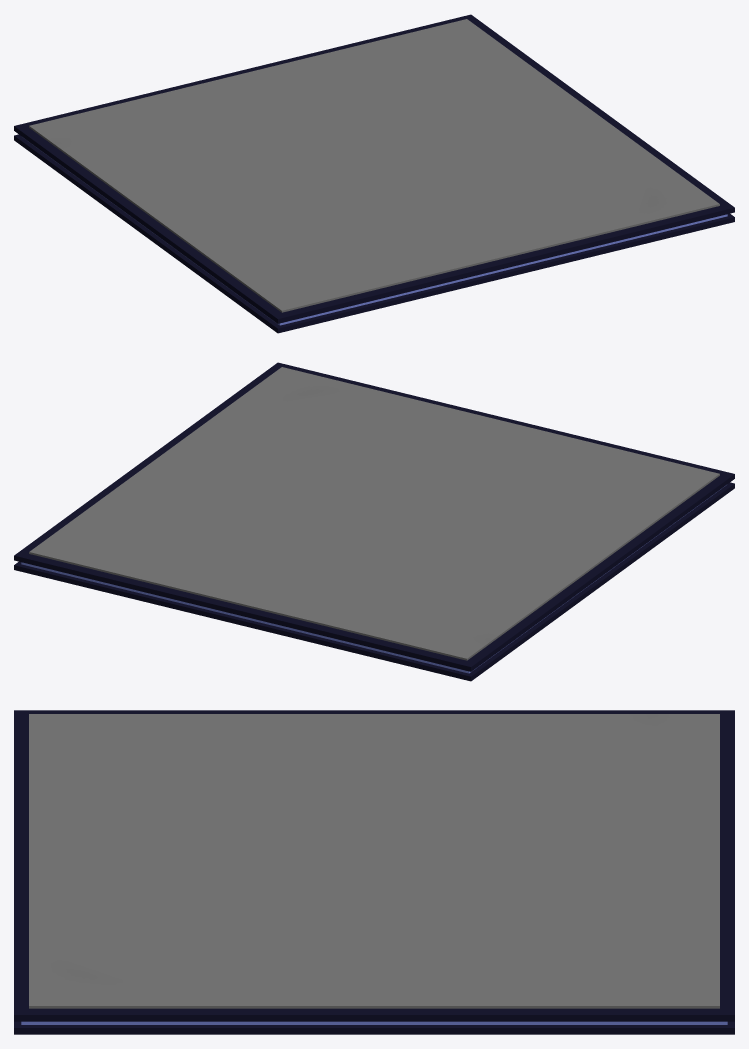
File: LabGamePlatformSmall.fbx
3 renders of one model, top to bottom at view 1: azimuth 30°, elevation 25°; view 2: azimuth 150°, elevation 25°; view 3: azimuth 270°, elevation 25°, orthographic. The views are drawn at different scales.
Visible parts, largest first — view 1: Cube; view 2: Cube; view 3: Cube.
Part boxes in pixels (left/top/right/bottom): Cube: left=14, top=14, right=734, bottom=333; Cube: left=14, top=362, right=734, bottom=681; Cube: left=14, top=710, right=734, bottom=1034.
Size of the model in its own units: 2000 by 387 by 2000.
